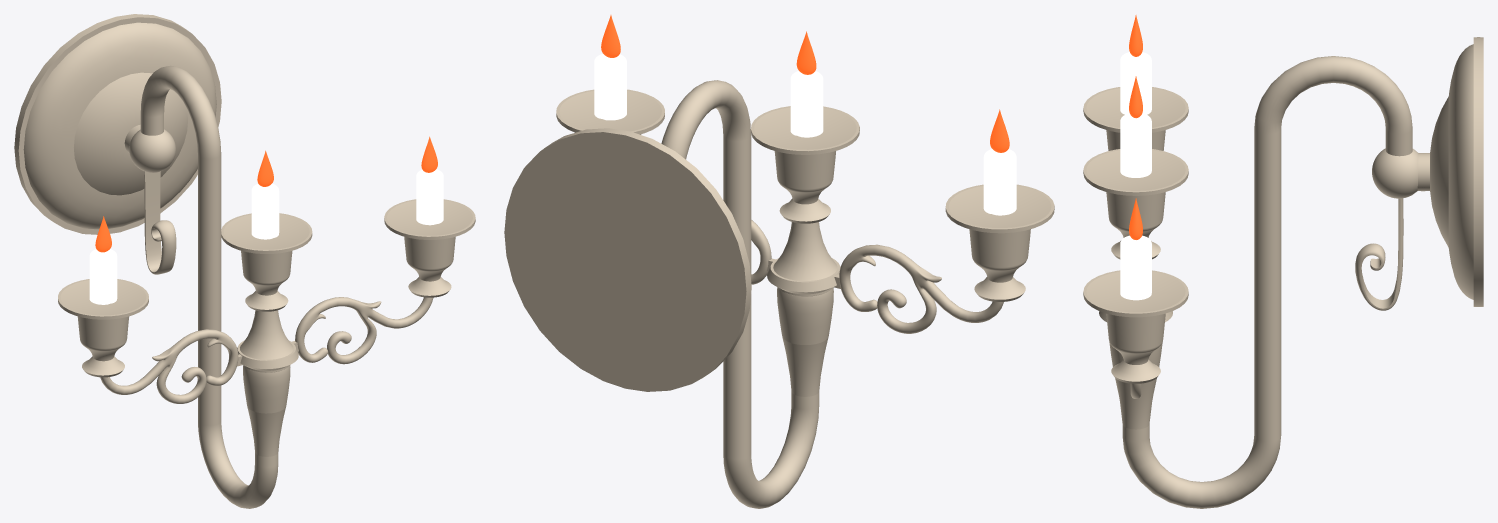
File: 378_燭台壁掛け.glb
3 renders of one model, left to right at view 1: azimuth 30°, elevation 25°; view 2: azimuth 150°, elevation 25°; view 3: azimuth 270°, elevation 25°, orthographic. The views are drawn at different scales.
Visible parts, largest first — view 1: 378_燭台(壁掛け); view 2: 378_燭台(壁掛け); view 3: 378_燭台(壁掛け).
Boxes of the visible parts, left/top/right/bottom form: 378_燭台(壁掛け): left=14, top=14, right=475, bottom=508; 378_燭台(壁掛け): left=504, top=54, right=1054, bottom=508; 378_燭台(壁掛け): left=1083, top=37, right=1483, bottom=508.
Size of the model in its own units: 0.3996 by 0.3744 by 0.2965.
